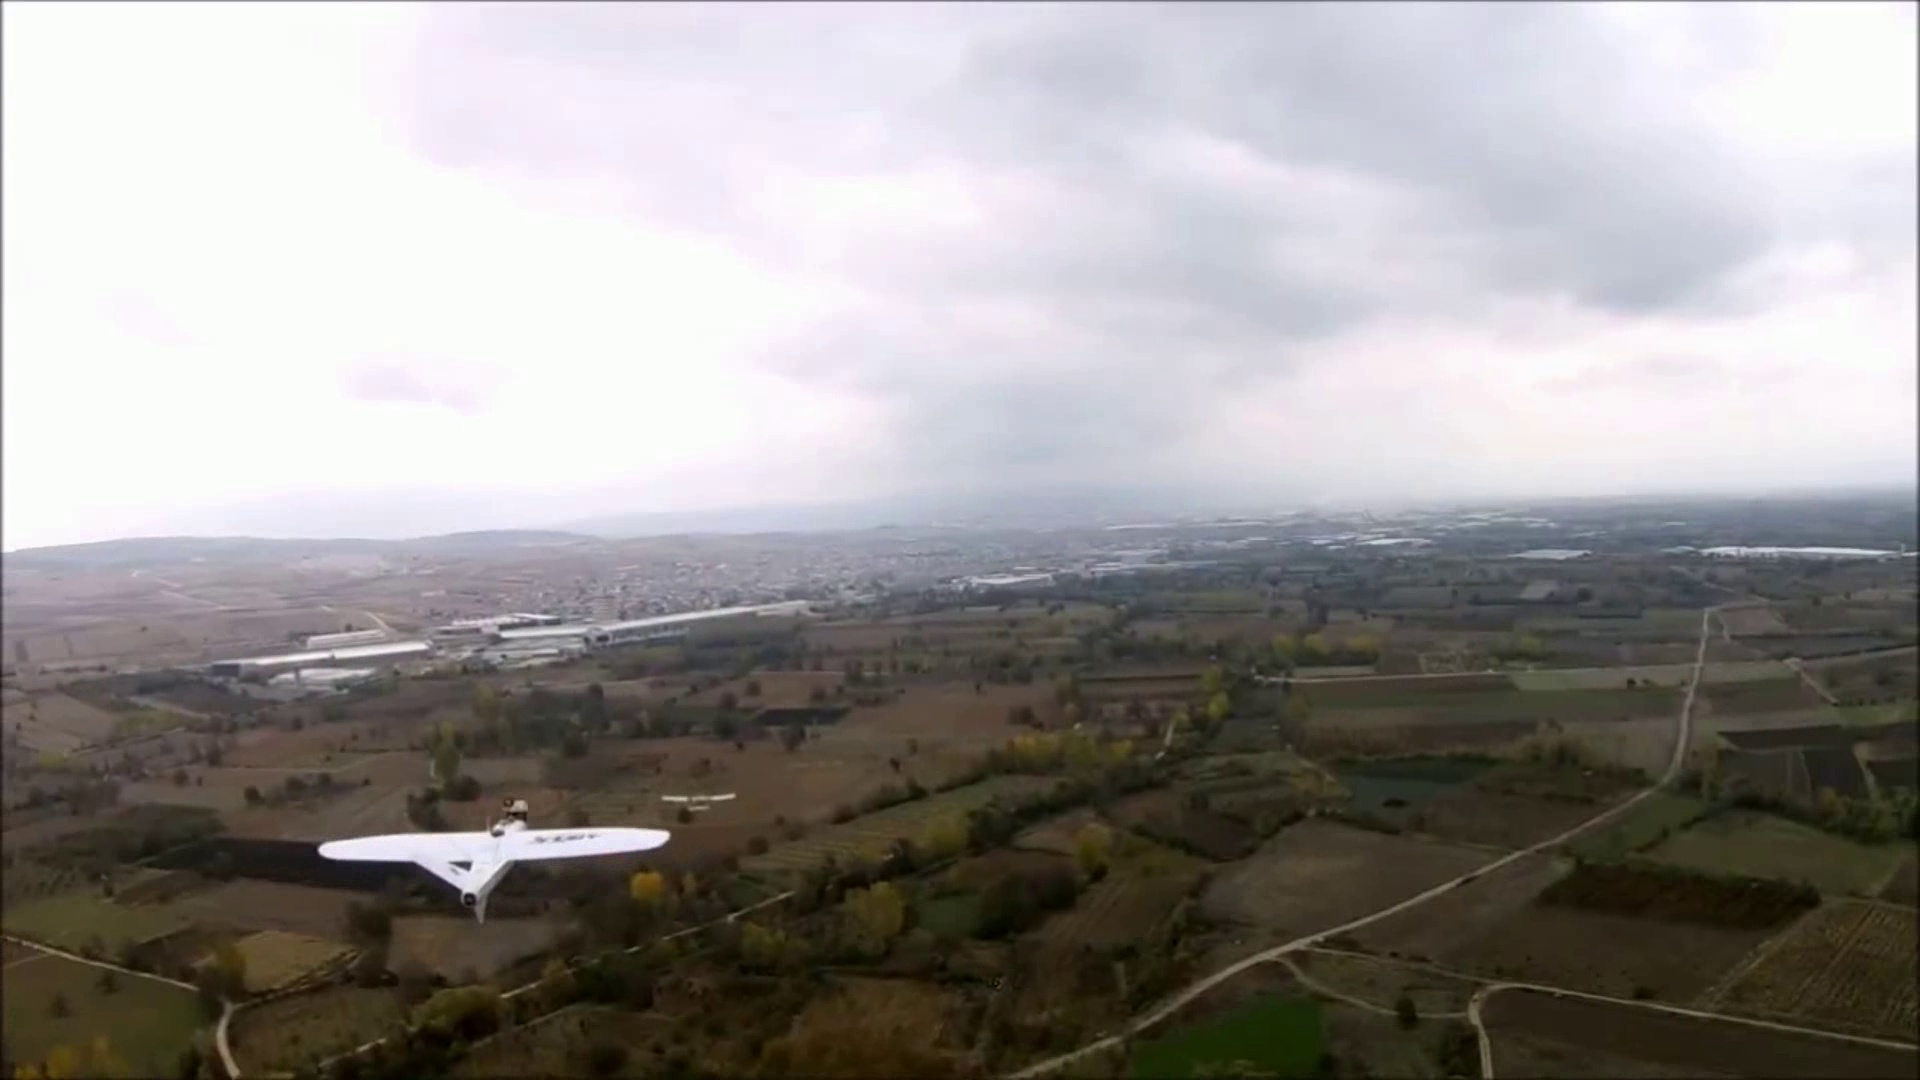airplane: (315, 819, 670, 920)
